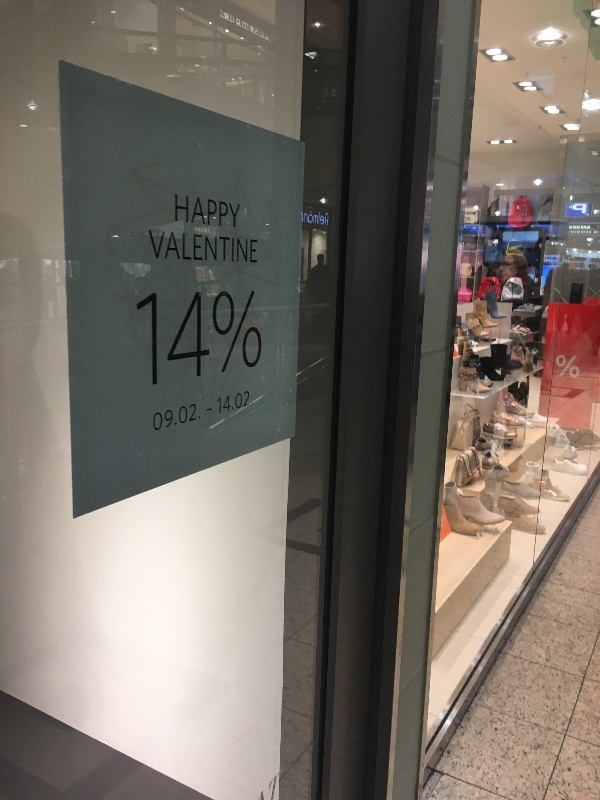text: (145, 289, 160, 389), (161, 289, 176, 389), (177, 289, 192, 389), (193, 289, 208, 389), (209, 289, 224, 389), (225, 289, 240, 389), (241, 289, 256, 389), (137, 289, 144, 389), (257, 289, 263, 389), (225, 193, 241, 229), (225, 7, 240, 45), (241, 7, 256, 45), (257, 7, 272, 45), (177, 193, 192, 229), (193, 193, 208, 229), (209, 193, 224, 229), (161, 230, 176, 264), (177, 230, 192, 264), (193, 230, 208, 264), (209, 230, 224, 264), (225, 230, 240, 264), (241, 230, 256, 264), (561, 351, 576, 382), (161, 402, 176, 432), (177, 402, 192, 432), (148, 230, 160, 264), (258, 770, 272, 799), (225, 390, 240, 415), (241, 390, 253, 415), (193, 402, 201, 432), (273, 770, 281, 799), (305, 212, 320, 227), (154, 402, 160, 432), (577, 351, 582, 382), (220, 7, 224, 45), (218, 390, 224, 415), (577, 204, 588, 215), (321, 212, 329, 227), (558, 351, 560, 382), (300, 212, 304, 227), (273, 7, 274, 45), (175, 193, 176, 229), (257, 230, 258, 264), (573, 204, 576, 215), (209, 408, 213, 412), (207, 408, 208, 412)
